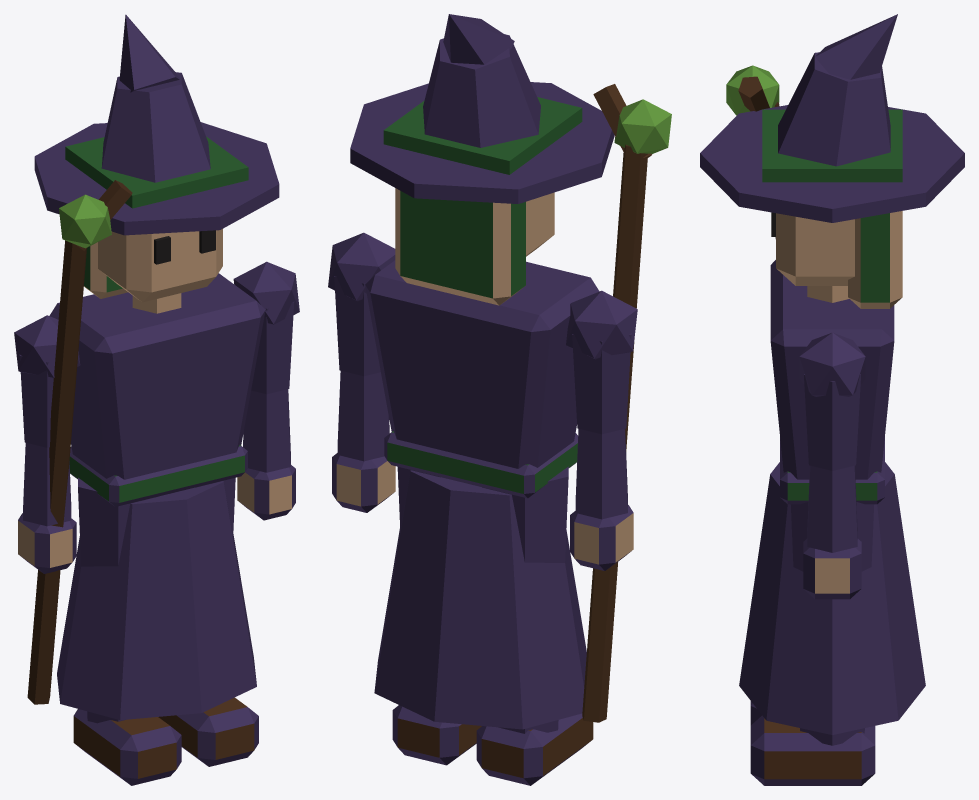
Rendered from marsh_witch.glb.
3 views of the same model, side by side, from view 1: azimuth 30°, elevation 25°; view 2: azimuth 150°, elevation 25°; view 3: azimuth 270°, elevation 25° (orthographic). The views are drawn at different scales.
Parts seen in each view (by area): view 1: torso, head, arm_r, arm_l, leg_r, leg_l; view 2: torso, head, arm_r, arm_l, leg_r, leg_l; view 3: torso, head, arm_l, leg_l, arm_r.
Boxes of the visible parts, x1=… form: torso: x1=49, y1=273, x2=265, y2=720; head: x1=34, y1=14, x2=279, y2=302; arm_r: x1=14, y1=180, x2=132, y2=704; arm_l: x1=233, y1=261, x2=299, y2=520; leg_r: x1=73, y1=477, x2=181, y2=785; leg_l: x1=158, y1=477, x2=258, y2=766; torso: x1=365, y1=260, x2=599, y2=729; head: x1=350, y1=14, x2=614, y2=305; arm_r: x1=566, y1=84, x2=671, y2=722; arm_l: x1=328, y1=232, x2=395, y2=512; leg_r: x1=476, y1=466, x2=593, y2=785; leg_l: x1=392, y1=467, x2=481, y2=765; torso: x1=739, y1=260, x2=925, y2=734; head: x1=700, y1=14, x2=964, y2=308; arm_l: x1=799, y1=332, x2=865, y2=599; leg_l: x1=750, y1=502, x2=875, y2=785; arm_r: x1=726, y1=65, x2=779, y2=238.
Bounding box in the file's own units: 0.7902 × 1.94 × 0.6256.
